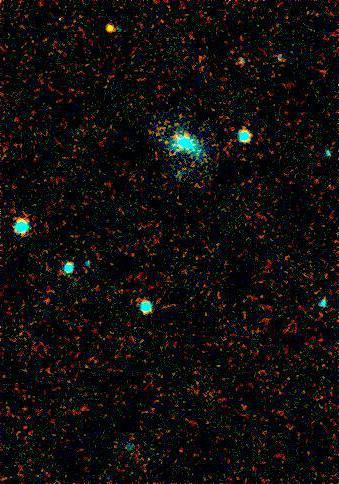star: (97, 13, 127, 43)
